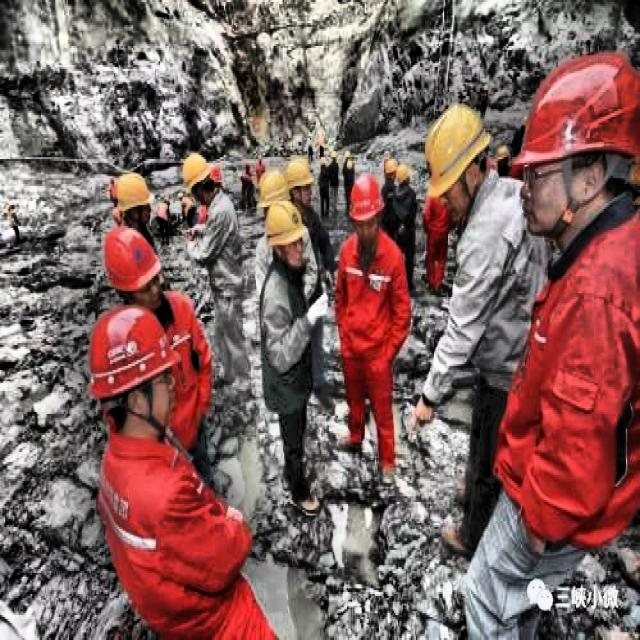helmet: (514, 56, 635, 249), (94, 306, 184, 442), (418, 102, 502, 220), (98, 217, 166, 314), (264, 199, 303, 261), (112, 171, 154, 228), (179, 149, 215, 207), (257, 169, 292, 228), (348, 176, 379, 238), (283, 157, 315, 211), (394, 165, 414, 193), (384, 155, 399, 186)
